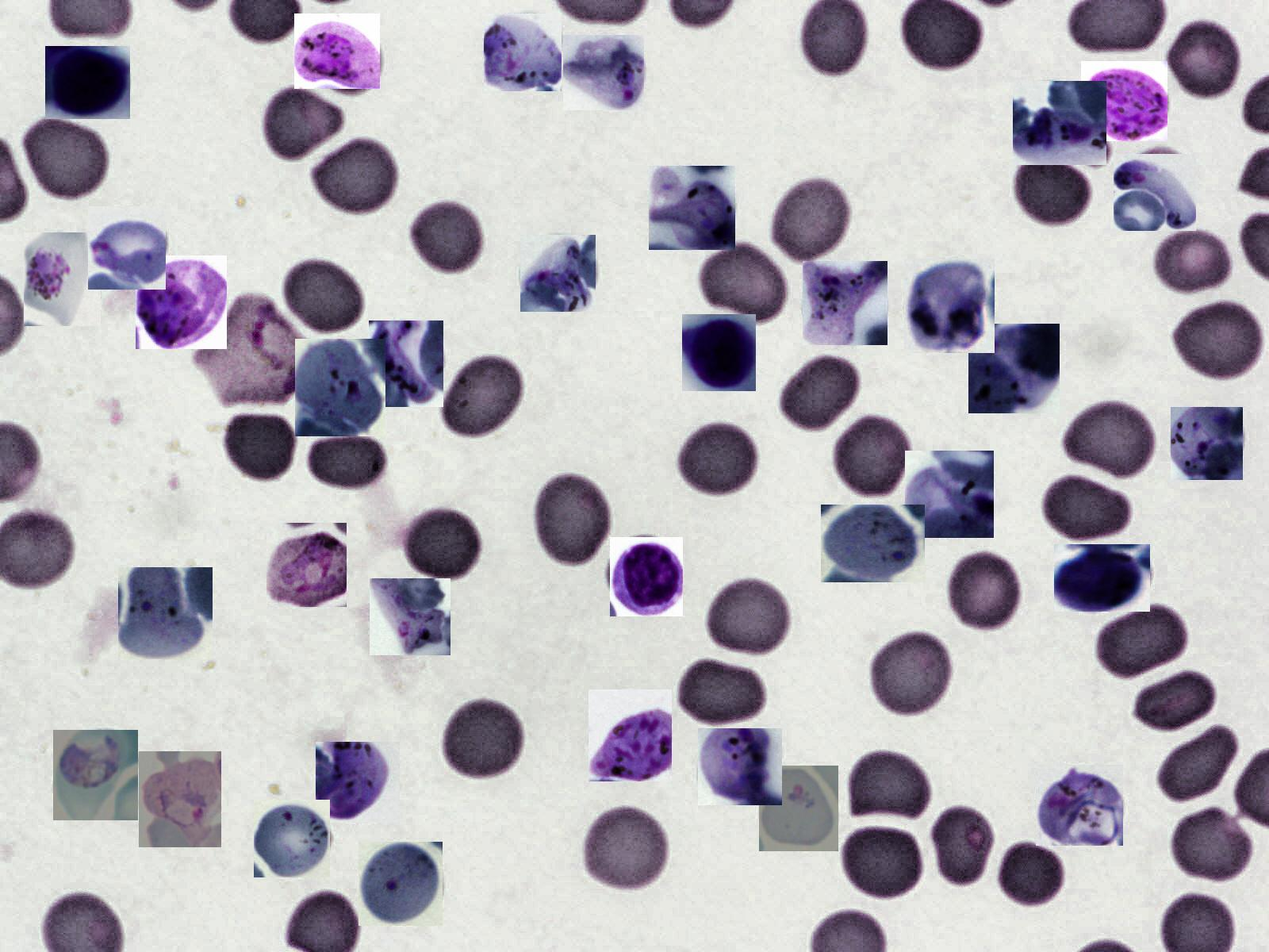Infected: (187, 291, 313, 408), (118, 567, 213, 659), (295, 339, 385, 436), (904, 259, 995, 353), (136, 255, 227, 349), (968, 324, 1060, 413), (821, 505, 925, 582), (139, 751, 221, 847), (1013, 81, 1106, 165), (905, 451, 994, 538), (588, 689, 672, 781), (53, 730, 138, 820), (24, 232, 101, 326), (649, 166, 735, 250), (803, 261, 888, 345), (358, 842, 443, 926), (1036, 766, 1123, 846), (1081, 61, 1167, 141), (316, 742, 400, 823), (266, 523, 347, 607), (760, 766, 838, 851), (88, 206, 166, 290), (294, 13, 380, 89), (1054, 544, 1150, 612), (698, 728, 782, 805), (369, 321, 443, 407), (1114, 154, 1196, 231), (45, 46, 130, 119), (370, 578, 450, 655), (484, 13, 562, 91), (563, 35, 644, 110), (254, 800, 330, 877), (520, 235, 596, 312), (610, 537, 683, 616), (682, 314, 756, 391), (1171, 407, 1243, 480)
Uninfected: (864, 626, 957, 718), (1171, 298, 1265, 386), (533, 471, 614, 570), (19, 113, 108, 203), (1091, 601, 1189, 682), (582, 805, 670, 895), (439, 695, 526, 785), (439, 351, 525, 442), (696, 240, 788, 325), (309, 135, 400, 220), (767, 174, 850, 267), (1155, 720, 1242, 806), (830, 412, 913, 501), (701, 573, 789, 656), (1062, 395, 1153, 475), (951, 546, 1030, 637), (676, 655, 769, 729), (1040, 474, 1134, 547), (259, 84, 343, 163), (843, 748, 929, 825), (280, 257, 363, 336), (779, 356, 861, 435), (1170, 806, 1252, 884), (841, 825, 922, 903), (399, 507, 481, 584), (1164, 18, 1240, 101), (677, 422, 758, 499), (1153, 225, 1233, 300), (400, 207, 478, 283), (926, 804, 997, 886), (1128, 669, 1214, 735), (1013, 154, 1089, 228), (222, 413, 299, 485), (993, 839, 1065, 911), (305, 432, 389, 493)
